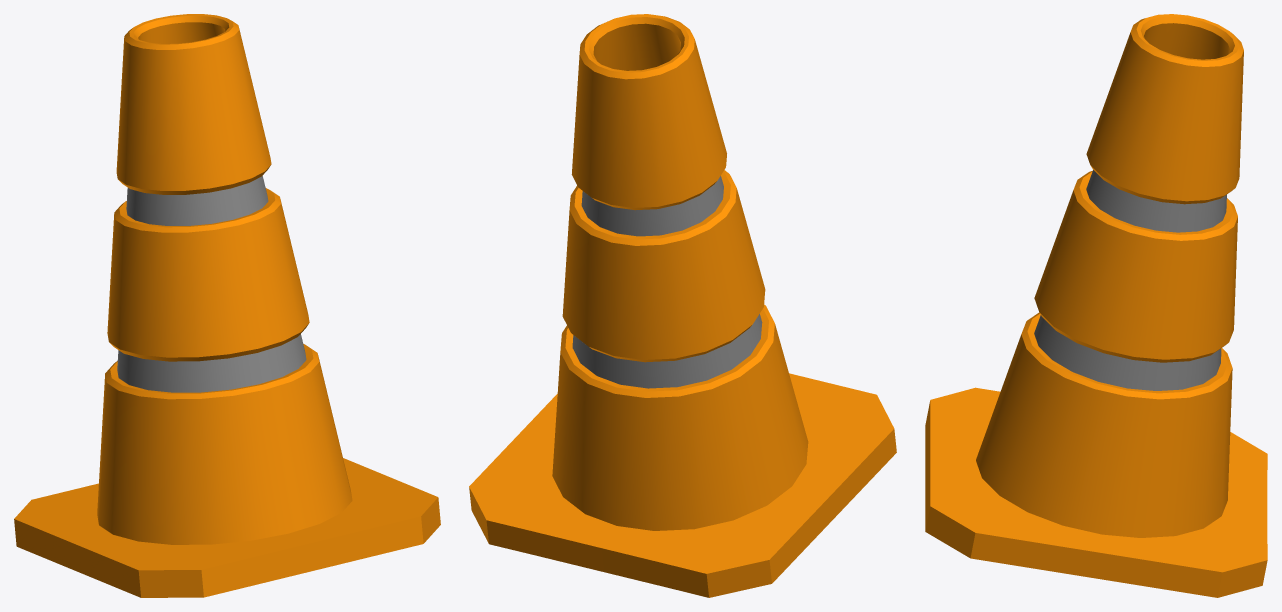
The model's file is Cono.fbx.
3 renders of one model, left to right at view 1: azimuth 30°, elevation 25°; view 2: azimuth 150°, elevation 25°; view 3: azimuth 270°, elevation 25°, orthographic.
Visible parts, largest first — view 1: Cono; view 2: Cono; view 3: Cono.
Boxes of the visible parts, x1,y1,x2,y2 form: Cono: (14,14,440,597); Cono: (469,14,896,597); Cono: (925,14,1267,597).
Size of the model in its own units: 31.52 by 50.96 by 31.42.
